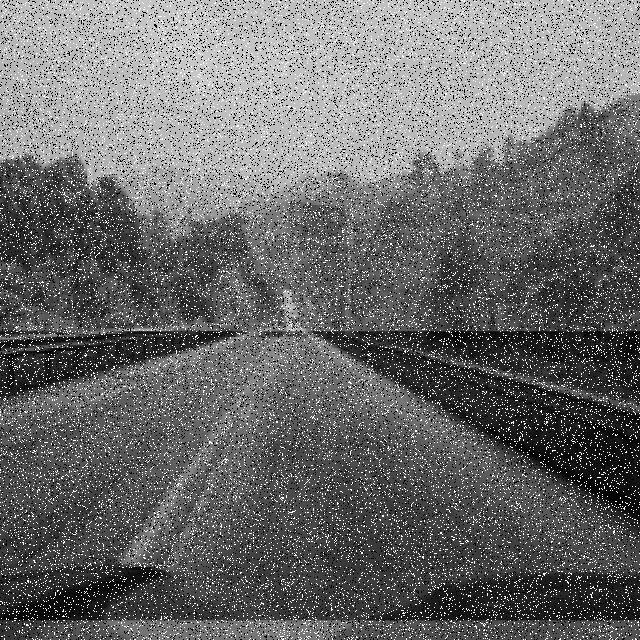clear-road: (0, 333, 640, 617)
